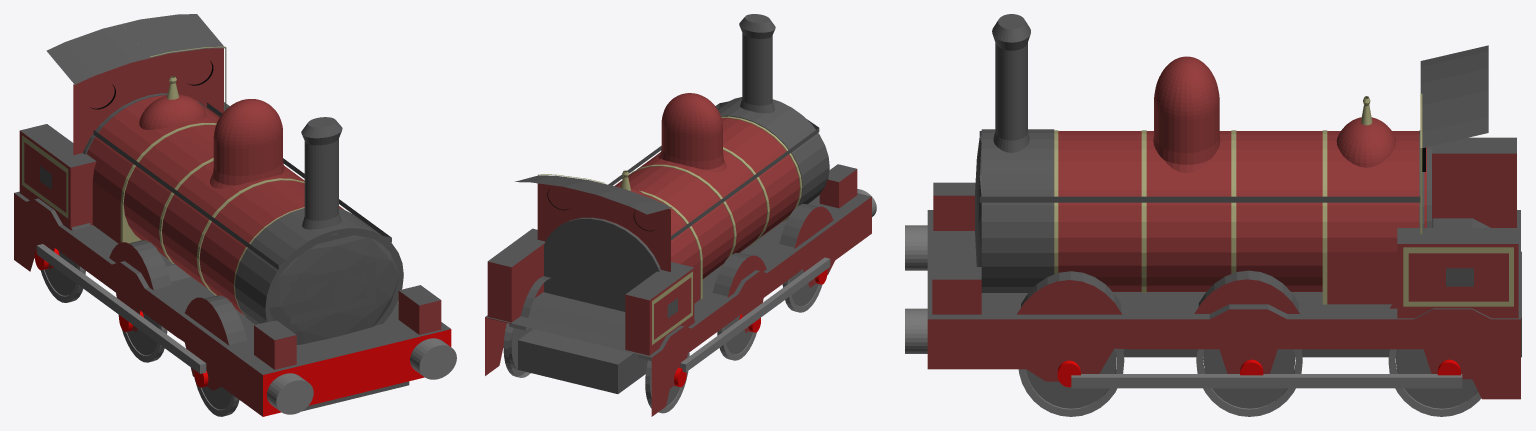
The picture shows the model from 3 angles, left to right: view 1: azimuth 30°, elevation 25°; view 2: azimuth 150°, elevation 25°; view 3: azimuth 270°, elevation 25°; orthographic projection. The views are drawn at different scales.
Parts seen in each view (by area): view 1: Cylinder_002, Plane_004, Sphere_002, Plane_050, Plane_031, Cylinder_003, Plane_002, Sphere_001, Cylinder_011, Cube_004, Cylinder_007, Plane_005 (+24 smaller); view 2: Cylinder_002, Plane_004, Cylinder_012, Plane_031, Cube_002, Plane_050, Cube_004, Sphere_001, Cylinder_003, Cube_003, Cylinder_007, Cube_006 (+18 smaller); view 3: Cylinder_002, Plane_004, Cylinder_011, Cylinder_003, Plane_031, Cube_003, Cube_004, Sphere_001, Cube_005, Cylinder_007, Plane_006, Cylinder_006 (+20 smaller).
Boxes of the visible parts, box(x1,y1,x2,y2) form: Cylinder_002: box(123, 125, 343, 314); Plane_004: box(14, 193, 262, 416); Sphere_002: box(269, 233, 399, 344); Plane_050: box(73, 48, 223, 155); Plane_031: box(14, 191, 450, 374); Cylinder_003: box(235, 208, 403, 325); Plane_002: box(263, 329, 451, 416); Sphere_001: box(210, 99, 286, 188); Cylinder_011: box(87, 95, 219, 243); Cube_004: box(19, 124, 96, 230); Cylinder_007: box(301, 117, 342, 229); Plane_005: box(46, 24, 149, 84); Cylinder_002: box(614, 118, 799, 278); Plane_004: box(485, 197, 871, 416); Cylinder_012: box(544, 217, 660, 311); Plane_031: box(485, 193, 871, 357); Cube_002: box(518, 329, 647, 393); Plane_050: box(537, 183, 670, 271); Cube_004: box(625, 262, 694, 355); Sphere_001: box(658, 93, 726, 172); Cylinder_003: box(717, 97, 829, 220); Cube_003: box(487, 228, 545, 323); Cylinder_007: box(739, 14, 775, 113); Cube_006: box(680, 257, 830, 372); Cylinder_002: box(1058, 131, 1322, 291); Plane_004: box(927, 309, 1520, 399); Cylinder_011: box(1327, 131, 1426, 304); Cylinder_003: box(981, 129, 1054, 292); Plane_031: box(927, 210, 1520, 319); Cube_003: box(1397, 228, 1518, 318); Cube_004: box(1432, 137, 1516, 227); Sphere_001: box(1153, 56, 1220, 172); Cube_005: box(1071, 374, 1462, 388); Cylinder_007: box(992, 14, 1030, 152); Plane_006: box(1422, 79, 1488, 148); Cylinder_006: box(1196, 349, 1302, 416).
Bounding box in the file's own units: 2.17 × 4.76 × 2.95.
